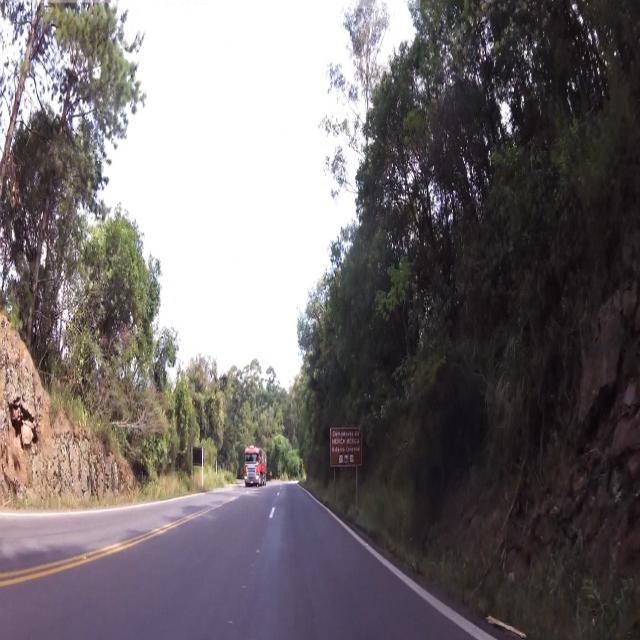TUR-4: (330, 422, 364, 466)
